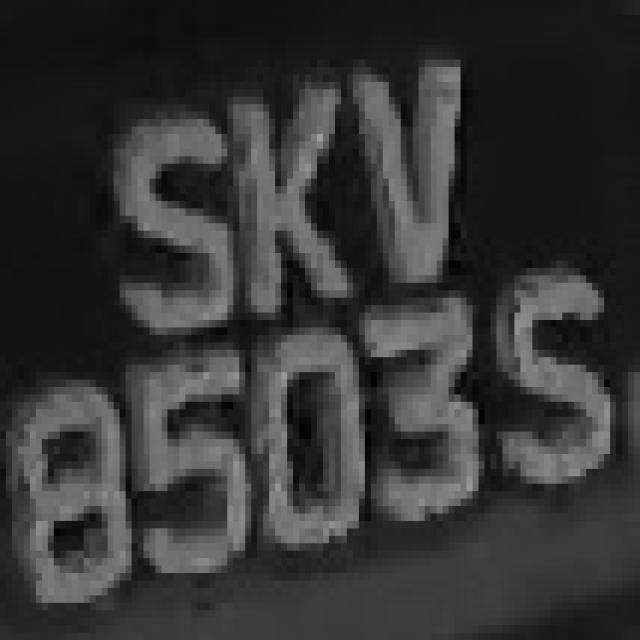0: (221, 312, 359, 566)
3: (353, 290, 484, 558)
5: (120, 350, 257, 595)
8: (12, 335, 126, 632)
K: (215, 52, 353, 320)
S: (102, 82, 221, 365), (502, 238, 622, 506)
V: (317, 30, 467, 290)
